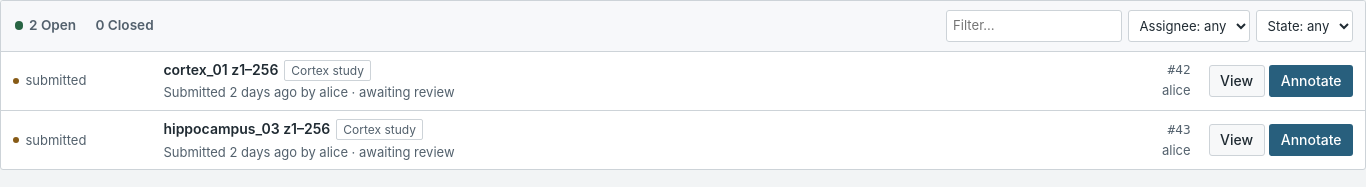
Test: WorkList filtering › searches the text already on the row
Type "hippo" into the search field named "Search" at (1034, 26), box 946,10 -> 1122,42
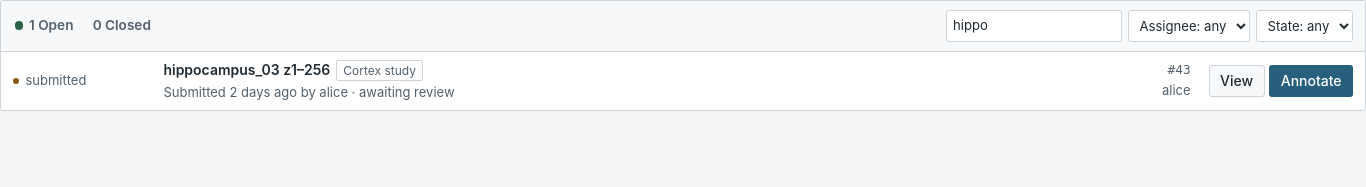
Expected: the link "#43" is shown, 1168,61 -> 1191,80
Result: the link "#42" is gone
